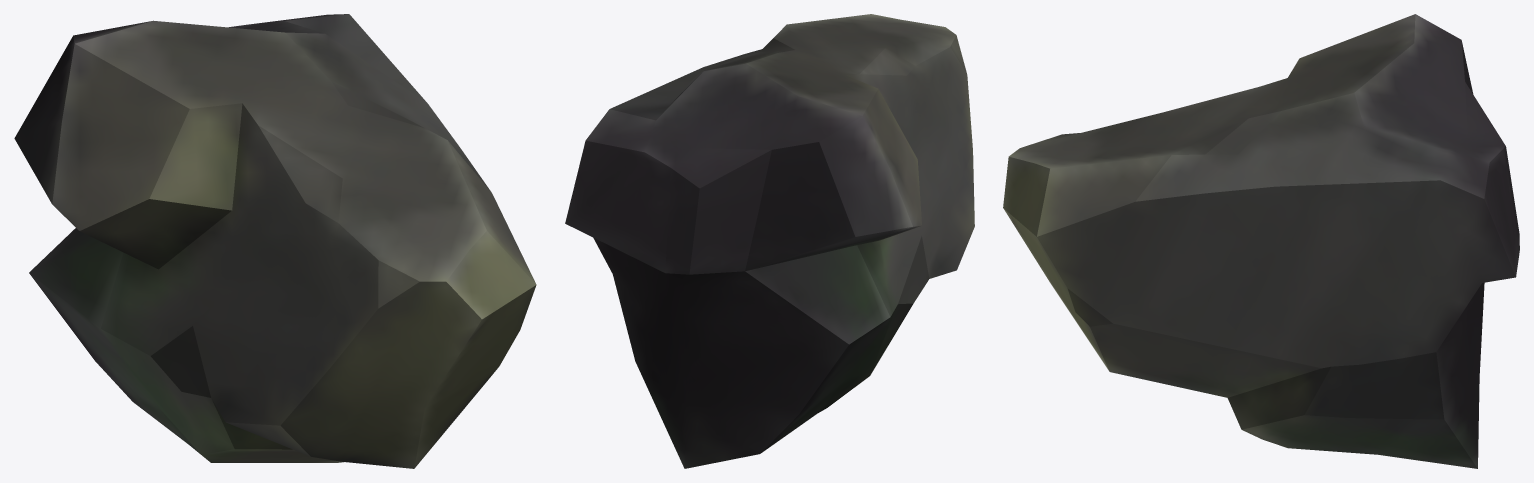
The model's file is Rock_1.glb.
3 renders of one model, left to right at view 1: azimuth 30°, elevation 25°; view 2: azimuth 150°, elevation 25°; view 3: azimuth 270°, elevation 25°, orthographic. The views are drawn at different scales.
Visible parts, largest first — view 1: Rock_1; view 2: Rock_1; view 3: Rock_1.
Boxes of the visible parts, <box> form: Rock_1: <box>14,14,536,468</box>; Rock_1: <box>565,14,974,468</box>; Rock_1: <box>1003,14,1519,468</box>.
Size of the model in its own units: 0.7107 by 0.8874 by 1.08.
Materials: 1 (1 with a texture image).
